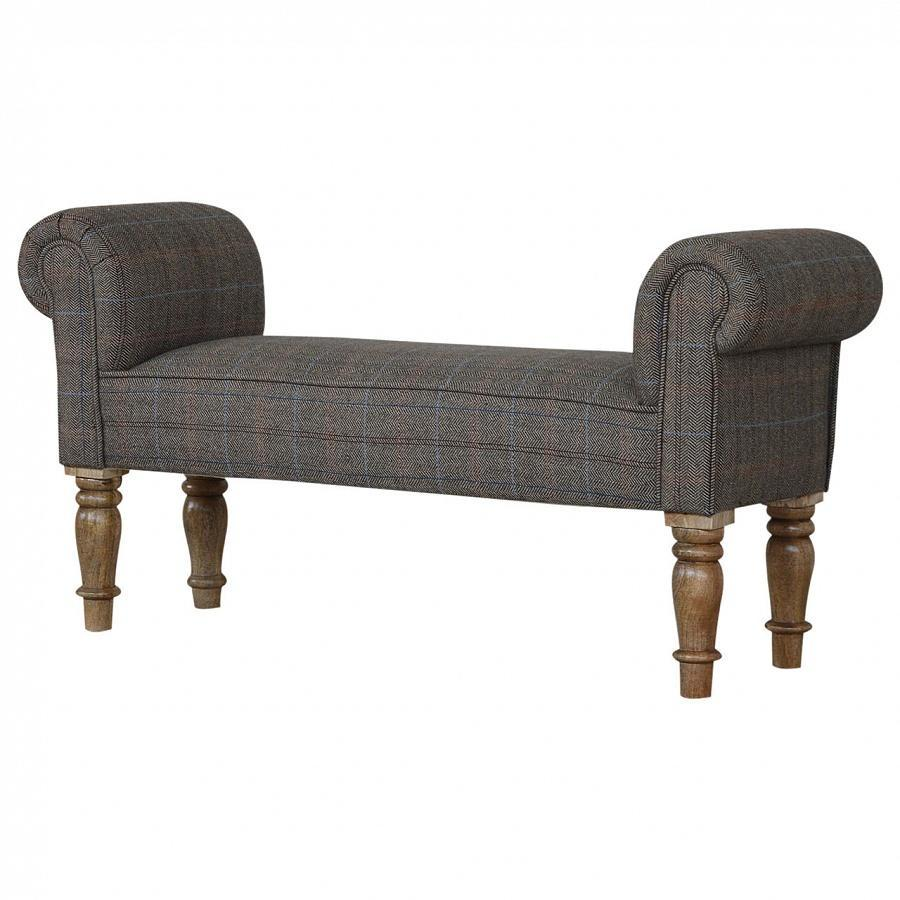chairs: (3, 188, 884, 700)
